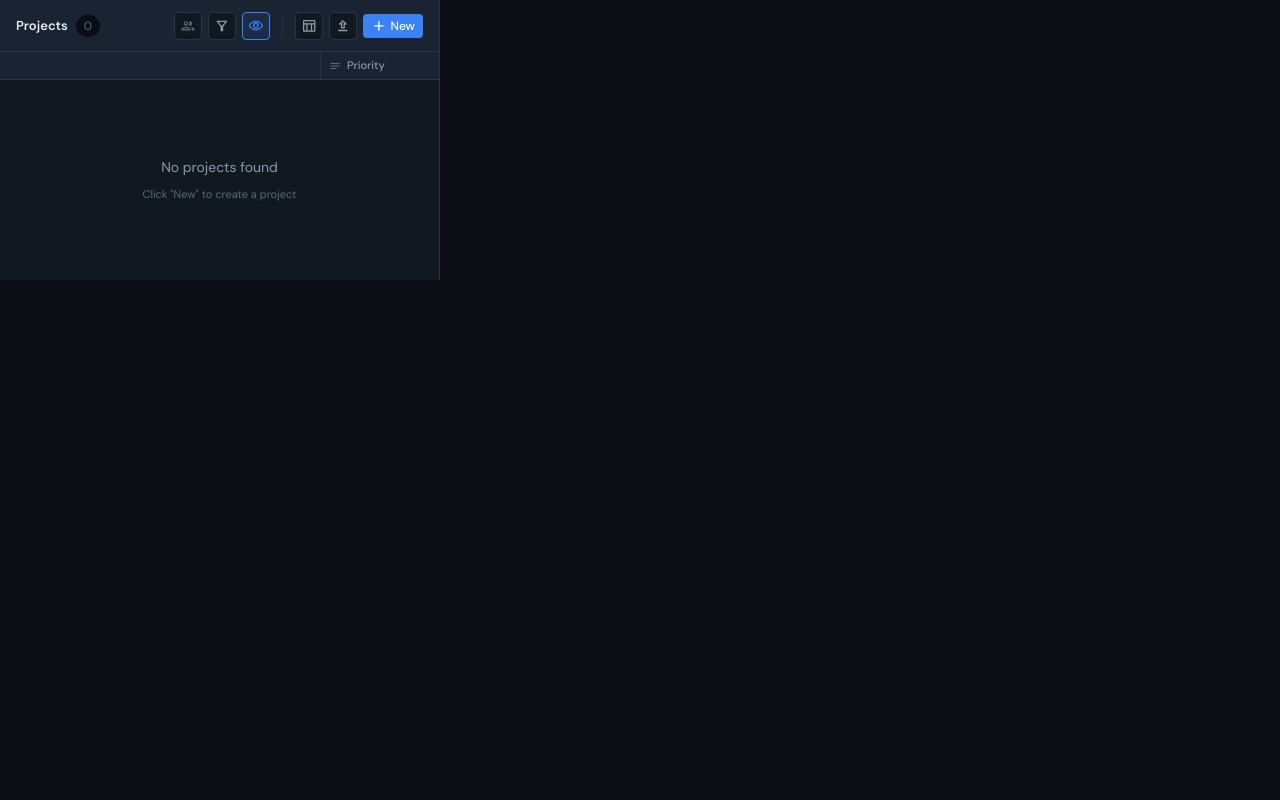
Test: ProjectPanel column visibility dropdown portal › portals the panel out of the header; a mousedown in it keeps it open
Click the button named "Column visibility": click(256, 26) [242, 12, 270, 40]
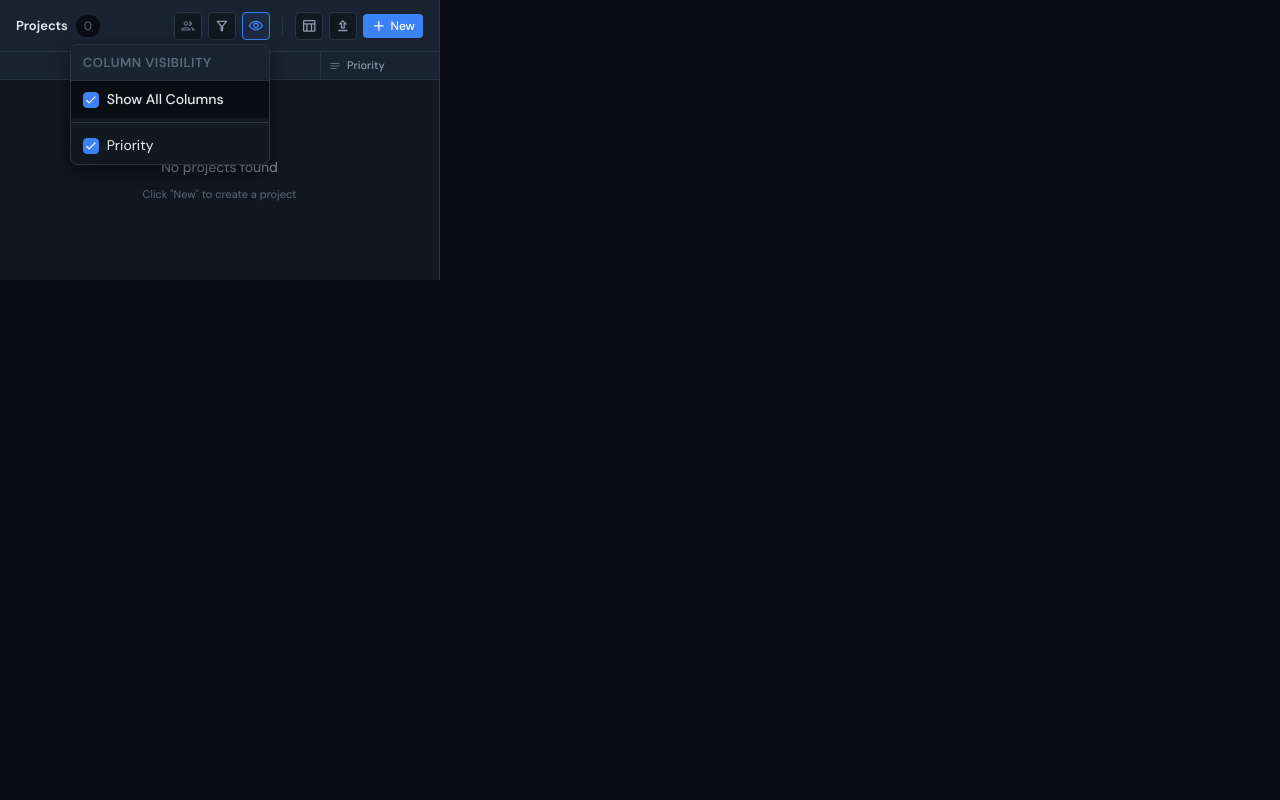
Press the mouse on the text "Show All Columns": (165, 100) [107, 89, 224, 110]
Now the dialog "Column Visibility" is shown, box [70, 44, 270, 165]
Press the mouse on the element that starts with "Projects": (640, 400) [0, 0, 1279, 799]
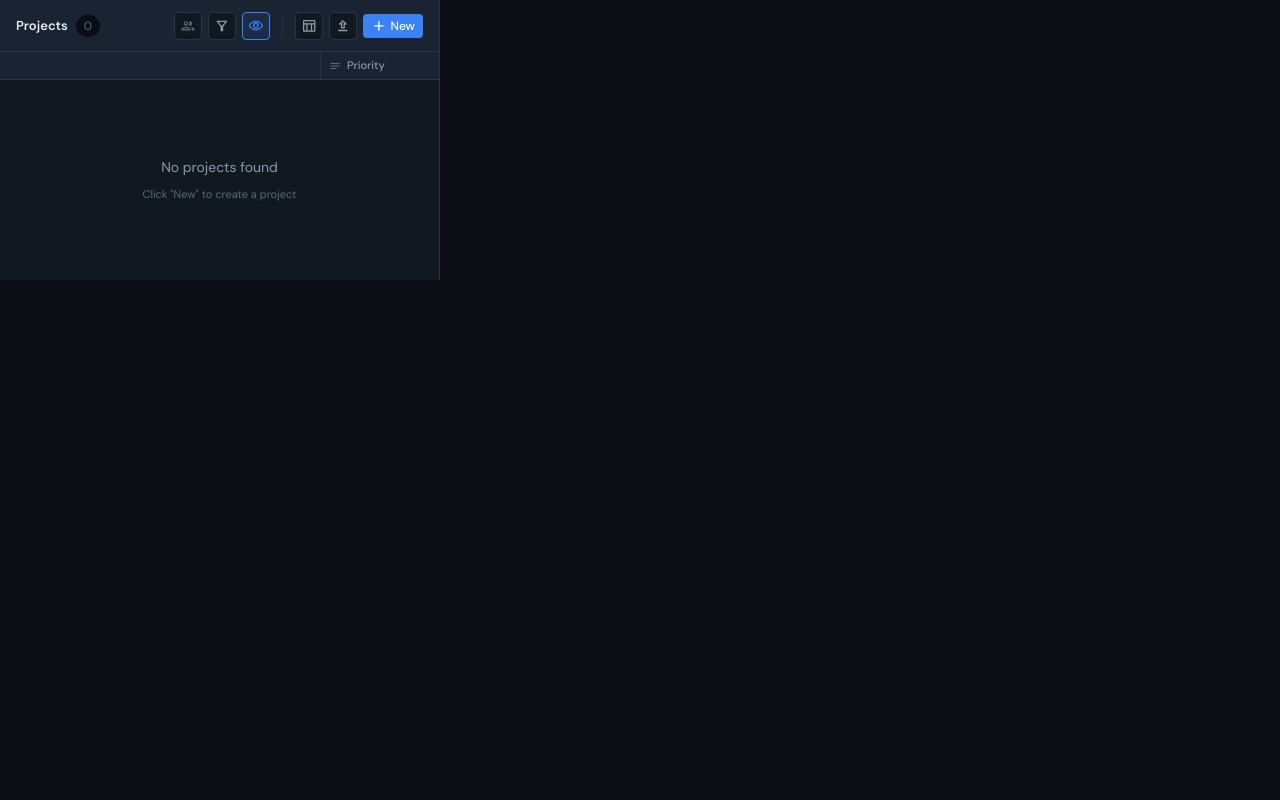
Now the text "Column Visibility" is gone
